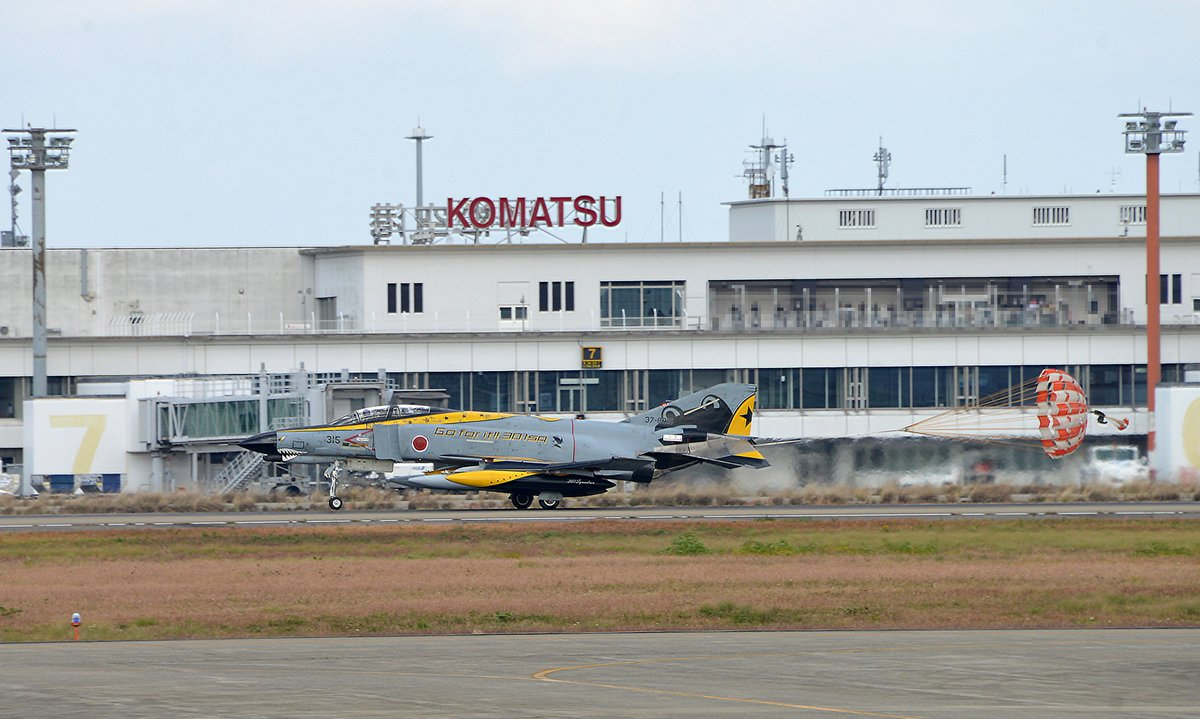F4: (218, 382, 772, 509)
